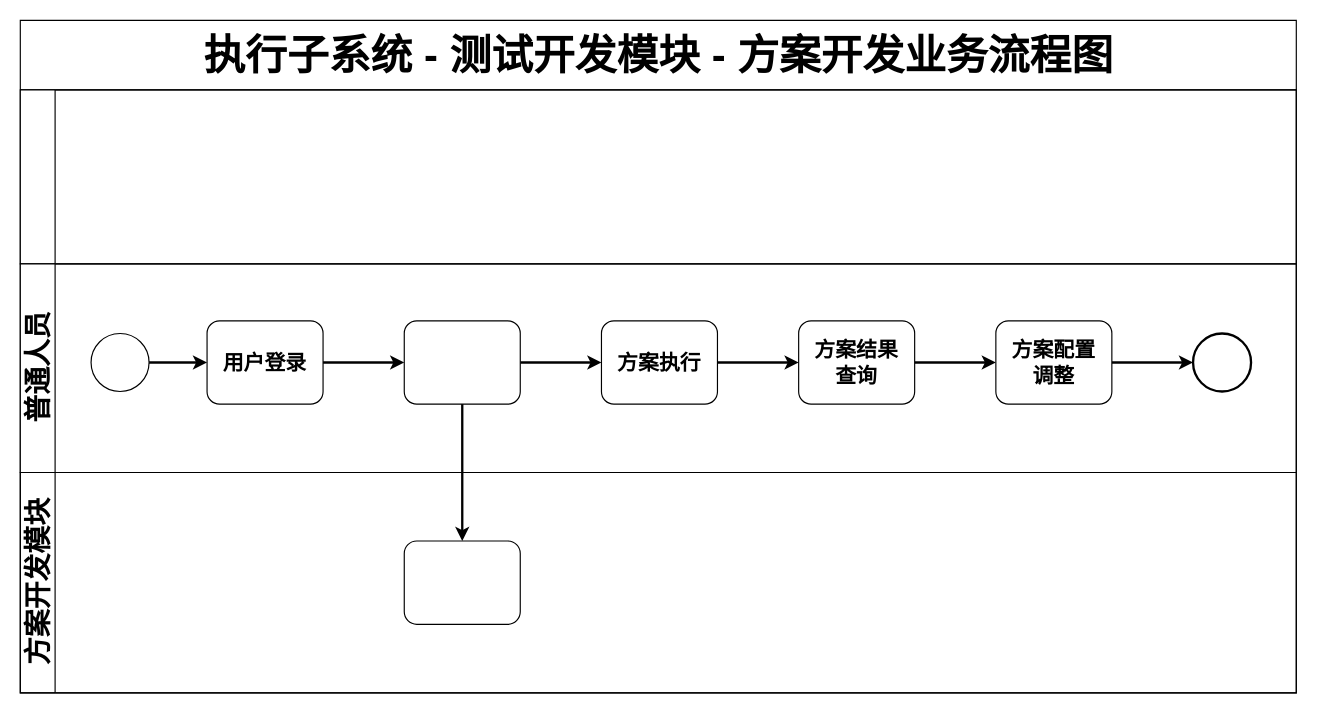
Image size: 1317x713. Some labels were removed from this diagram. The shapes that lost their labels are listed below. From the top down, each one's centre as x and y in pixels, then its label:
At [657,176]: "系统管理员".
At [461,362]: "方案设计 与生成".
At [461,582]: "方案库".
